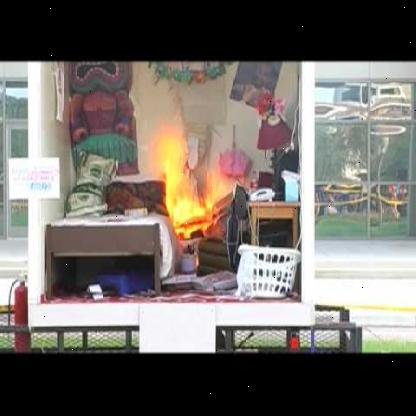fire: (150, 108, 236, 249)
